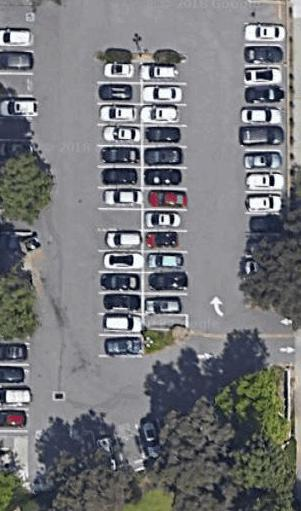parkingspot: (95, 59, 145, 360), (139, 60, 191, 334), (241, 0, 291, 238), (0, 5, 38, 166), (80, 414, 167, 467), (0, 340, 32, 453)
